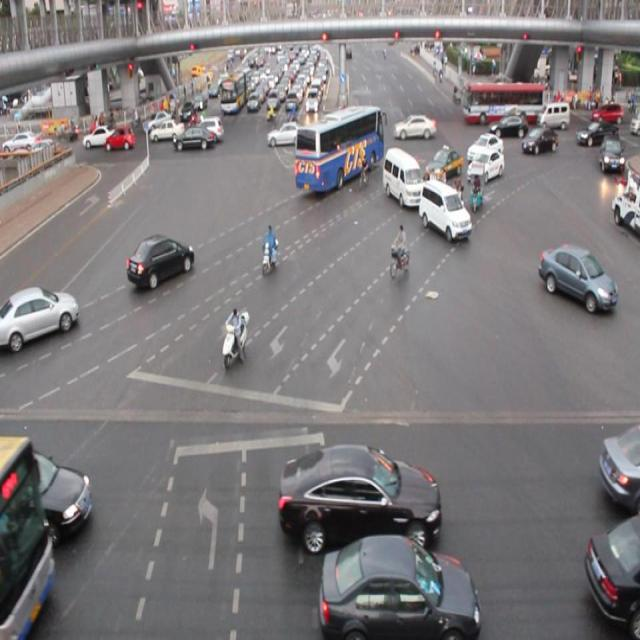car: (318, 534, 478, 640), (280, 444, 440, 548), (1, 444, 91, 544), (583, 507, 640, 634), (540, 240, 617, 312), (1, 288, 78, 350), (596, 417, 640, 509), (127, 235, 195, 289), (424, 145, 461, 179), (522, 125, 556, 155), (393, 114, 435, 138), (467, 152, 501, 181), (466, 133, 500, 160), (174, 128, 215, 148), (266, 123, 303, 145), (106, 128, 133, 148)
truck: (418, 179, 471, 241), (382, 150, 422, 208)
van: (0, 432, 57, 640), (297, 107, 381, 194)
